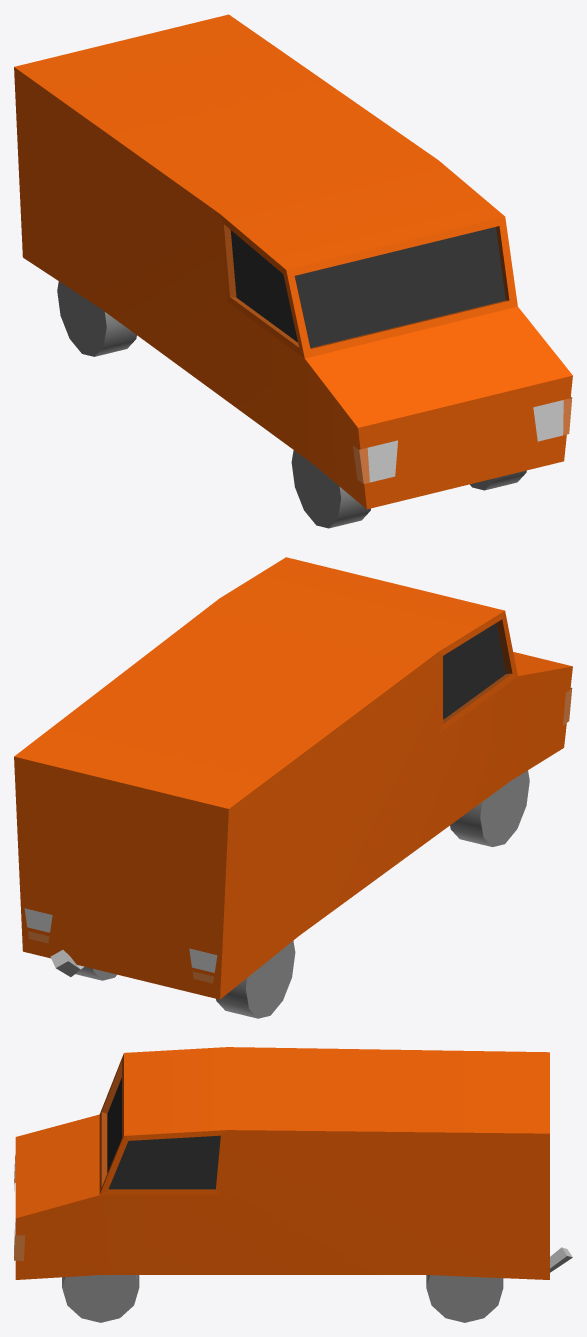
Rendered from van_01.fbx.
3 views of the same model, one above another, from view 1: azimuth 30°, elevation 25°; view 2: azimuth 150°, elevation 25°; view 3: azimuth 270°, elevation 25° (orthographic). The views are drawn at different scales.
Parts seen in each view (by area): view 1: van_01; view 2: van_01; view 3: van_01.
Boxes of the visible parts, x1,y1,x2,y2 form: van_01: (14, 14, 572, 528); van_01: (14, 557, 572, 1018); van_01: (14, 1047, 572, 1322).
Bounding box in the file's own units: 1.61 × 1.8 × 4.59.
